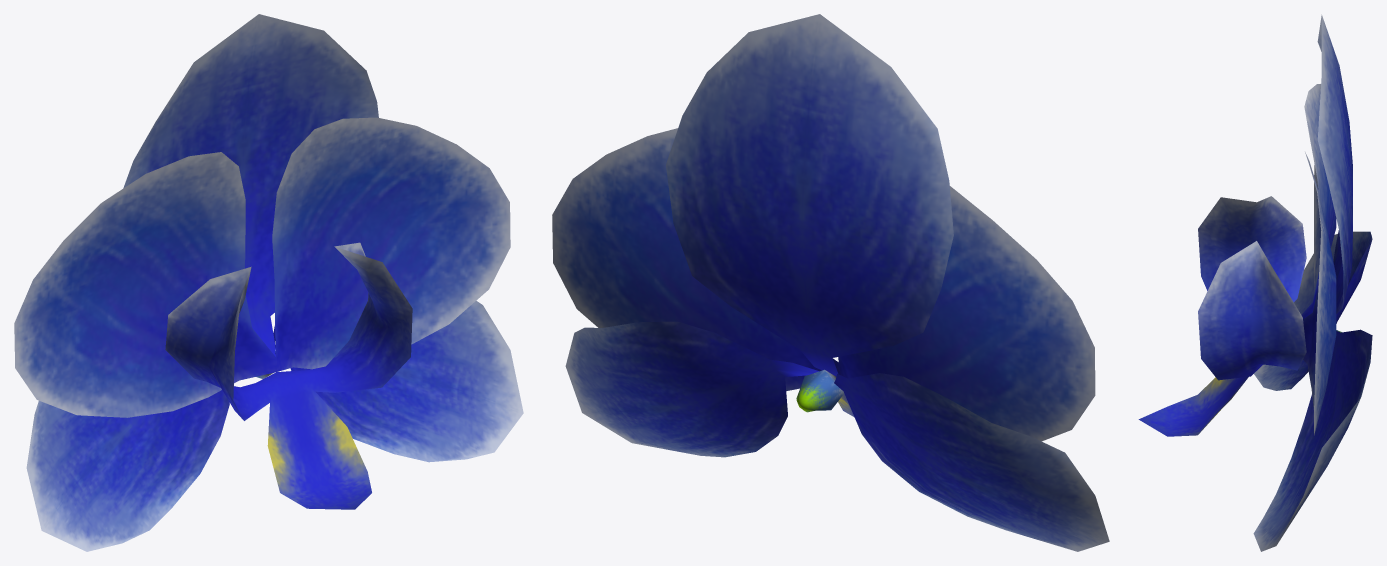
Rendered from orchid.fbx.
3 views of the same model, side by side, from view 1: azimuth 30°, elevation 25°; view 2: azimuth 150°, elevation 25°; view 3: azimuth 270°, elevation 25° (orthographic). The views are drawn at different scales.
Visible parts, largest first — view 1: orchid.petal.001, orchid.petal.002, orchid.petal, orchid.petal.003; view 2: orchid.petal, orchid.petal.001, orchid.petal.002, orchid.head; view 3: orchid.petal.003, orchid.petal.002, orchid.petal.001, orchid.petal.
Boxes of the visible parts, <box> form: orchid.petal.001: <box>14,117,510,417</box>; orchid.petal.002: <box>26,300,523,551</box>; orchid.petal: <box>123,14,378,356</box>; orchid.petal.003: <box>165,242,412,509</box>; orchid.petal: <box>666,14,953,376</box>; orchid.petal.001: <box>552,128,1095,441</box>; orchid.petal.002: <box>565,321,1109,551</box>; orchid.head: <box>796,369,844,412</box>; orchid.petal.003: <box>1138,196,1306,436</box>; orchid.petal.002: <box>1253,231,1372,551</box>; orchid.petal.001: <box>1301,84,1336,435</box>; orchid.petal: <box>1317,14,1352,313</box>.
Bounding box in the file's own units: 235 × 211 × 101.
